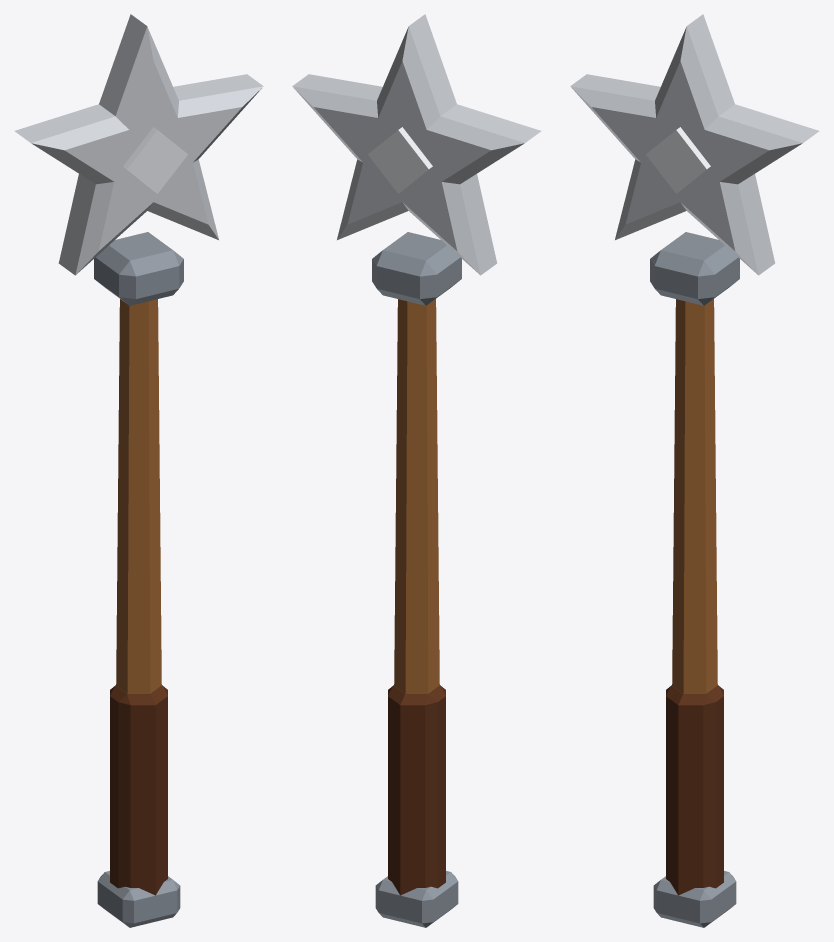
The model's file is IronWand.fbx.
The picture shows the model from 3 angles, left to right: view 1: azimuth 30°, elevation 25°; view 2: azimuth 150°, elevation 25°; view 3: azimuth 330°, elevation 25°; orthographic projection.
Parts seen in each view (by area): view 1: IronWand; view 2: IronWand; view 3: IronWand.
Boxes of the visible parts, x1,y1,x2,y2 form: IronWand: [14, 14, 263, 927]; IronWand: [292, 14, 541, 927]; IronWand: [570, 14, 819, 927].
Bounding box in the file's own units: 0.6467 × 2.37 × 0.18.
Materials: 1 (1 with a texture image).
